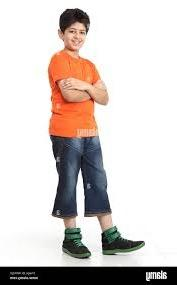Human: (36, 4, 147, 275)
